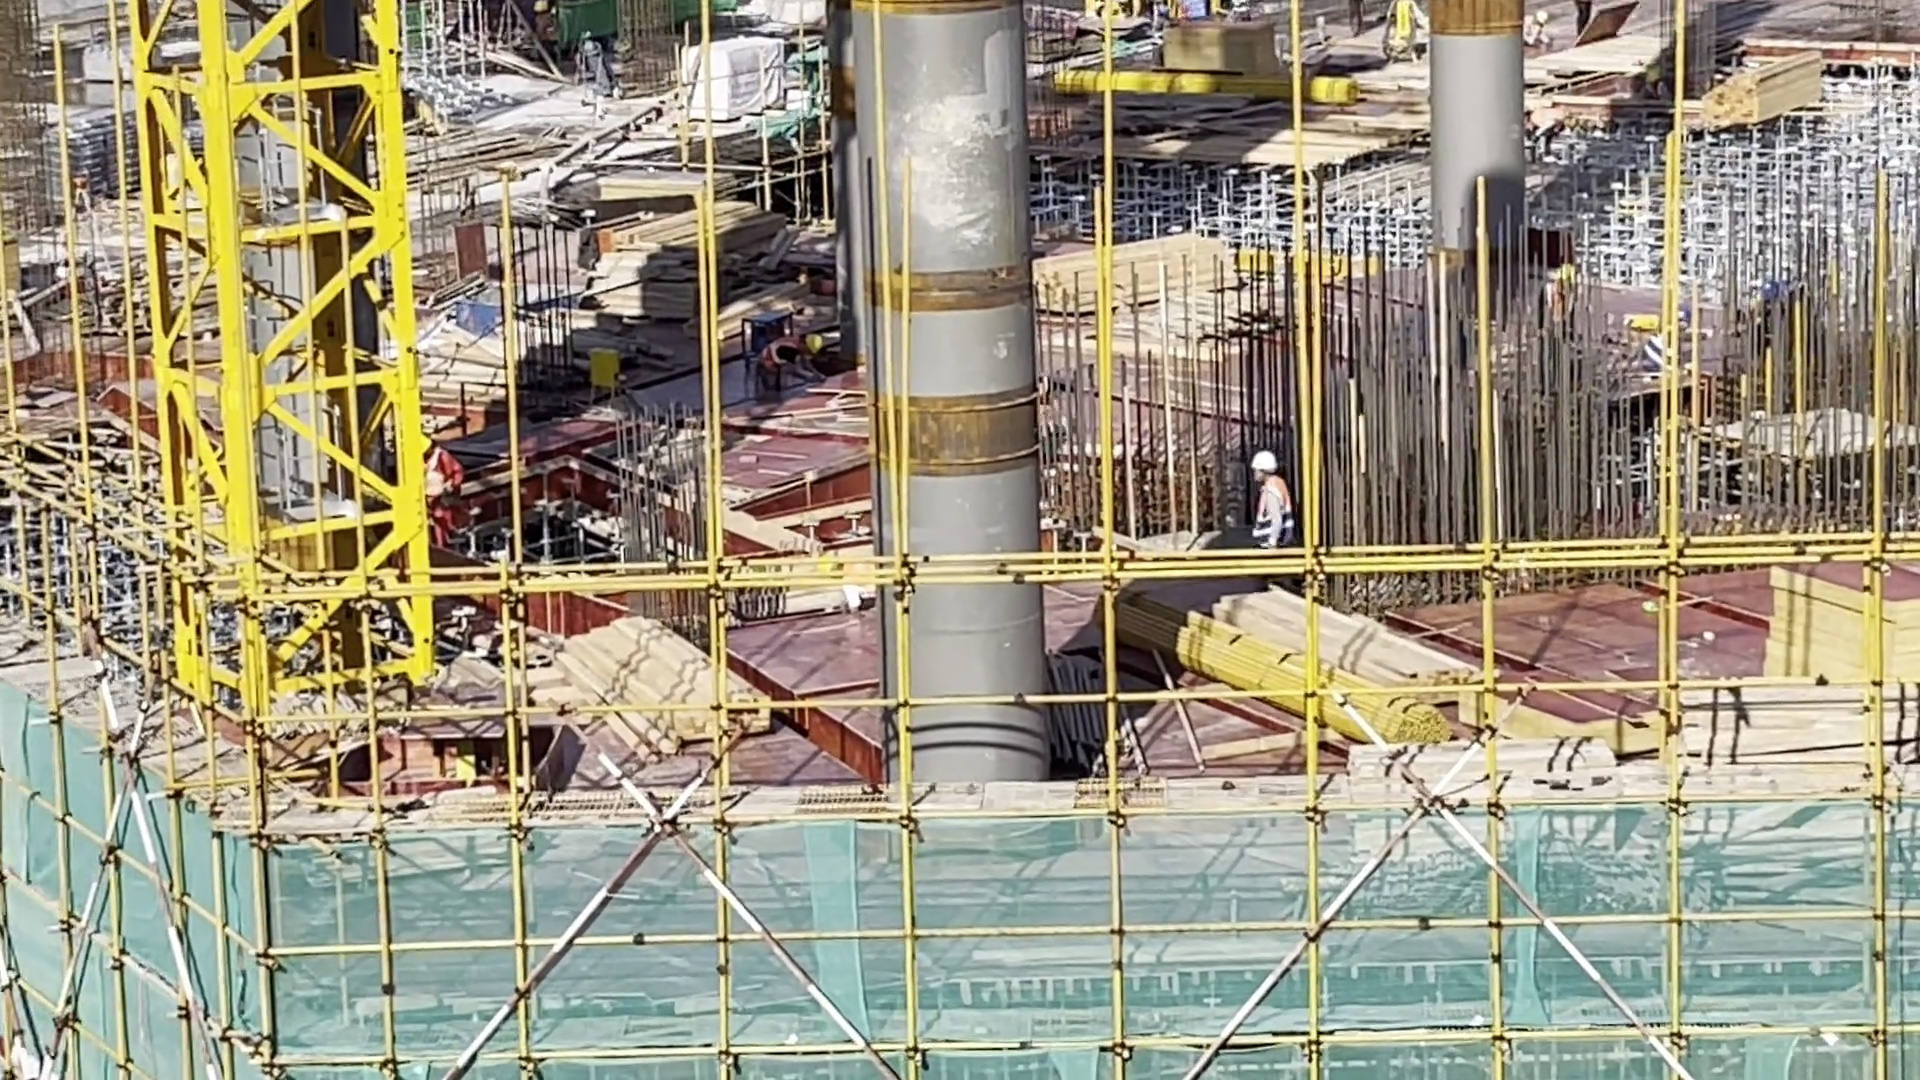helmet: (1555, 262, 1594, 290), (1246, 451, 1276, 477), (821, 546, 848, 574), (1757, 278, 1776, 303), (1680, 297, 1695, 326), (808, 326, 822, 353), (528, 2, 549, 8)
person: (1747, 251, 1842, 363), (1531, 258, 1606, 390), (1622, 296, 1696, 421), (1251, 443, 1324, 566), (762, 321, 851, 398), (817, 538, 876, 621), (1376, 1, 1433, 64), (429, 405, 456, 528), (1036, 367, 1084, 431), (525, 1, 566, 64), (1532, 98, 1574, 158), (1531, 10, 1562, 53), (1169, 1, 1187, 17)
vest: (419, 449, 459, 512), (1763, 302, 1811, 349), (843, 551, 886, 601), (1254, 484, 1298, 532), (754, 332, 814, 367), (1540, 278, 1575, 338), (1646, 317, 1671, 369), (1395, 1, 1414, 42), (536, 16, 558, 49), (1048, 396, 1067, 435), (1541, 113, 1568, 140), (1172, 2, 1189, 16), (1529, 22, 1541, 38)
